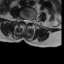CCS_normal: (25, 17, 27, 26)
LFS_normal: (29, 17, 32, 24)
LLS_normal: (27, 17, 29, 24)
RFS_normal: (21, 16, 23, 22)
RLS_stenosis: (23, 17, 25, 23)
